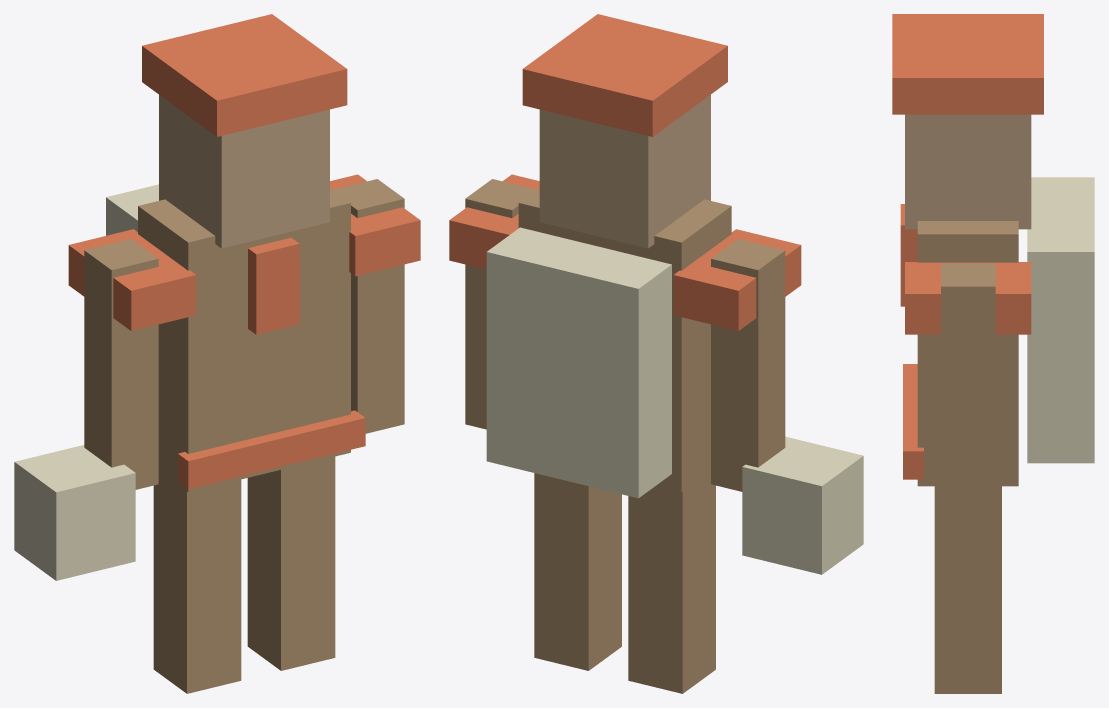
Rendered from 19_ilyra_cragwarden_warden_from_tuning.glb.
3 renders of one model, left to right at view 1: azimuth 30°, elevation 25°; view 2: azimuth 150°, elevation 25°; view 3: azimuth 270°, elevation 25°, orthographic.
Parts seen in each view (by area): view 1: Ilyra Cragwarden, Warden from Tuning; view 2: Ilyra Cragwarden, Warden from Tuning; view 3: Ilyra Cragwarden, Warden from Tuning.
Part boxes in pixels (x1,y1,x2,y2): Ilyra Cragwarden, Warden from Tuning: [14, 14, 420, 693]; Ilyra Cragwarden, Warden from Tuning: [449, 14, 863, 693]; Ilyra Cragwarden, Warden from Tuning: [892, 14, 1094, 693].
Size of the model in its own units: 1.04 by 1.68 by 0.5028.
